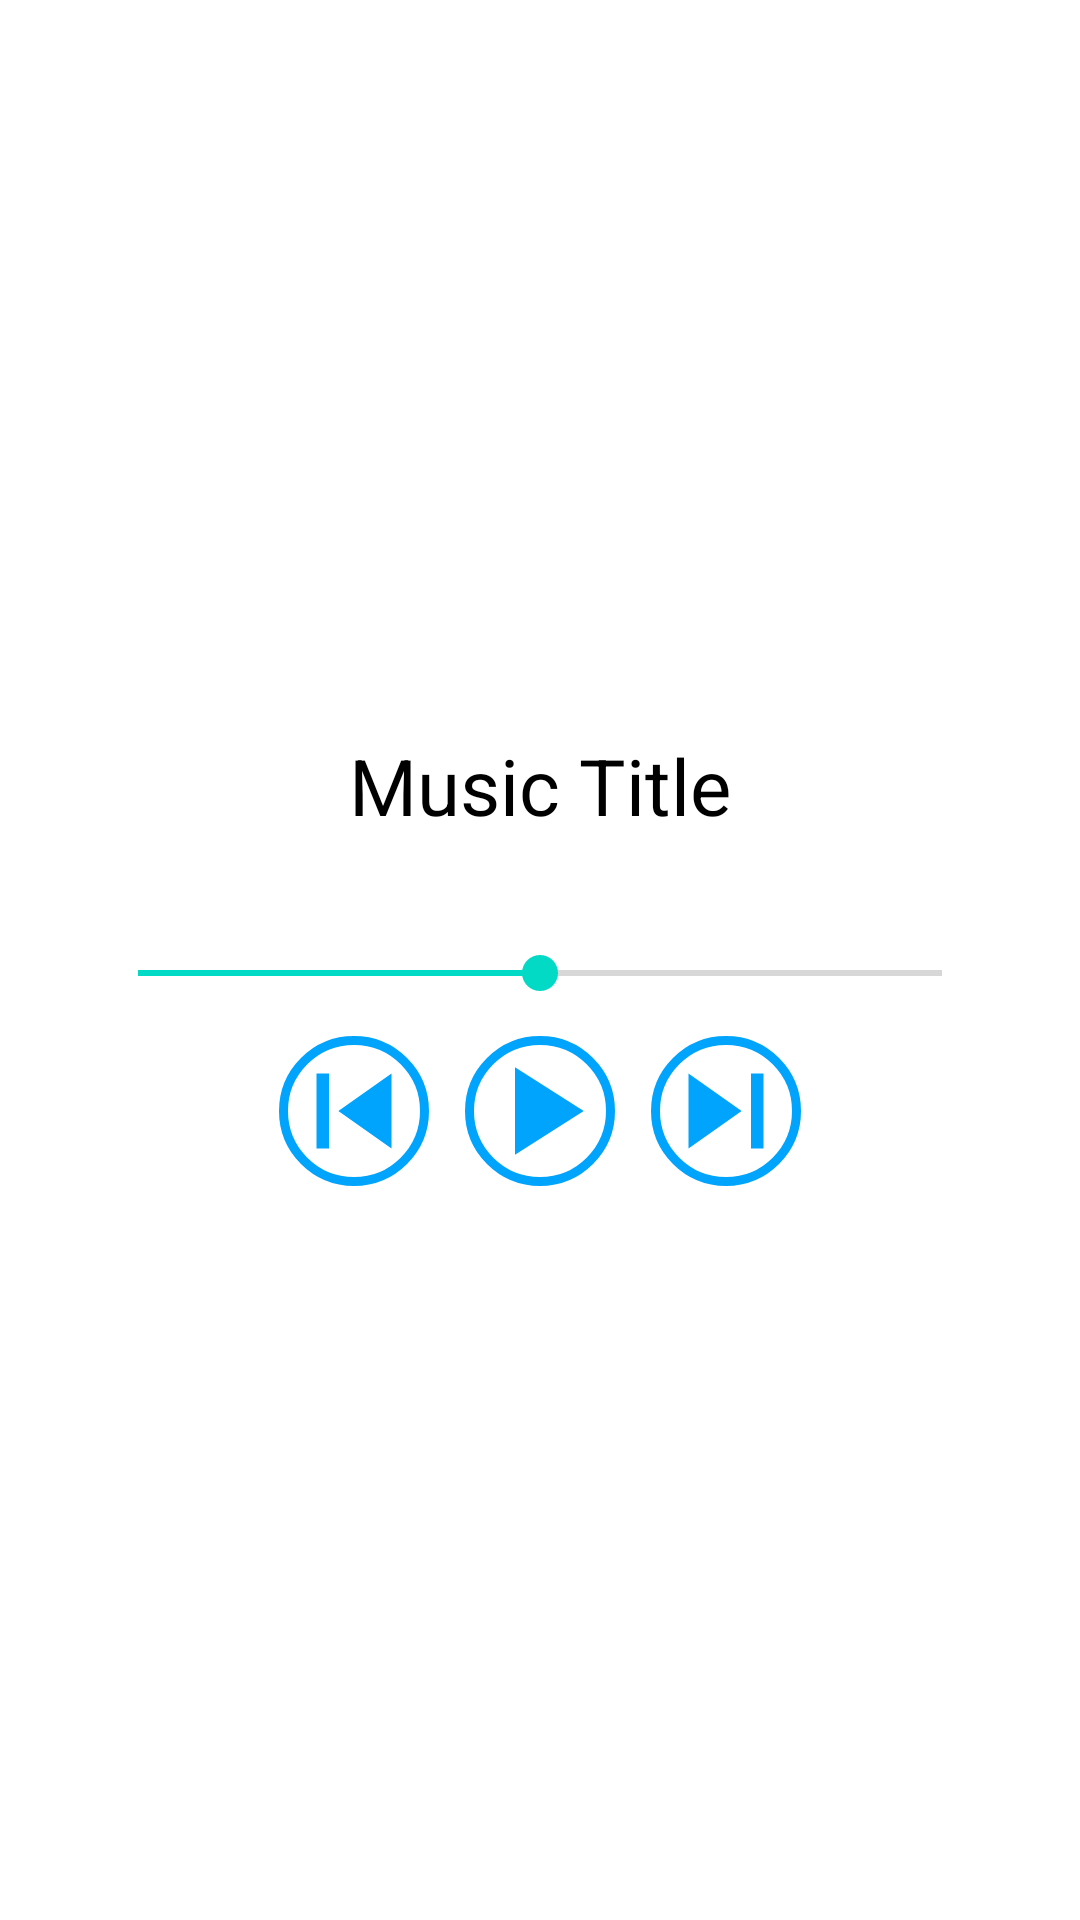

Icon click points for this 1080*1920 phone screenshot, format (x,y):
play arrow: (540,1111)
skip next: (726,1111)
skip previous: (354,1111)
